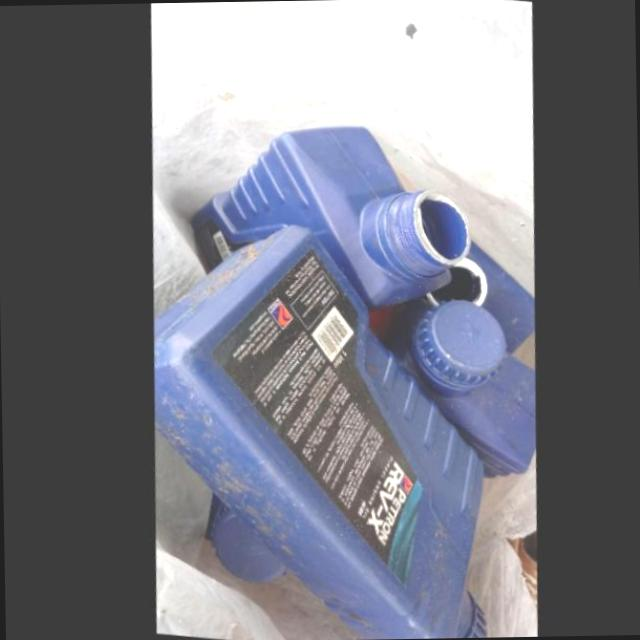hop_nhua: (146, 223, 474, 639), (186, 123, 465, 309), (393, 297, 527, 476), (413, 238, 528, 352)
